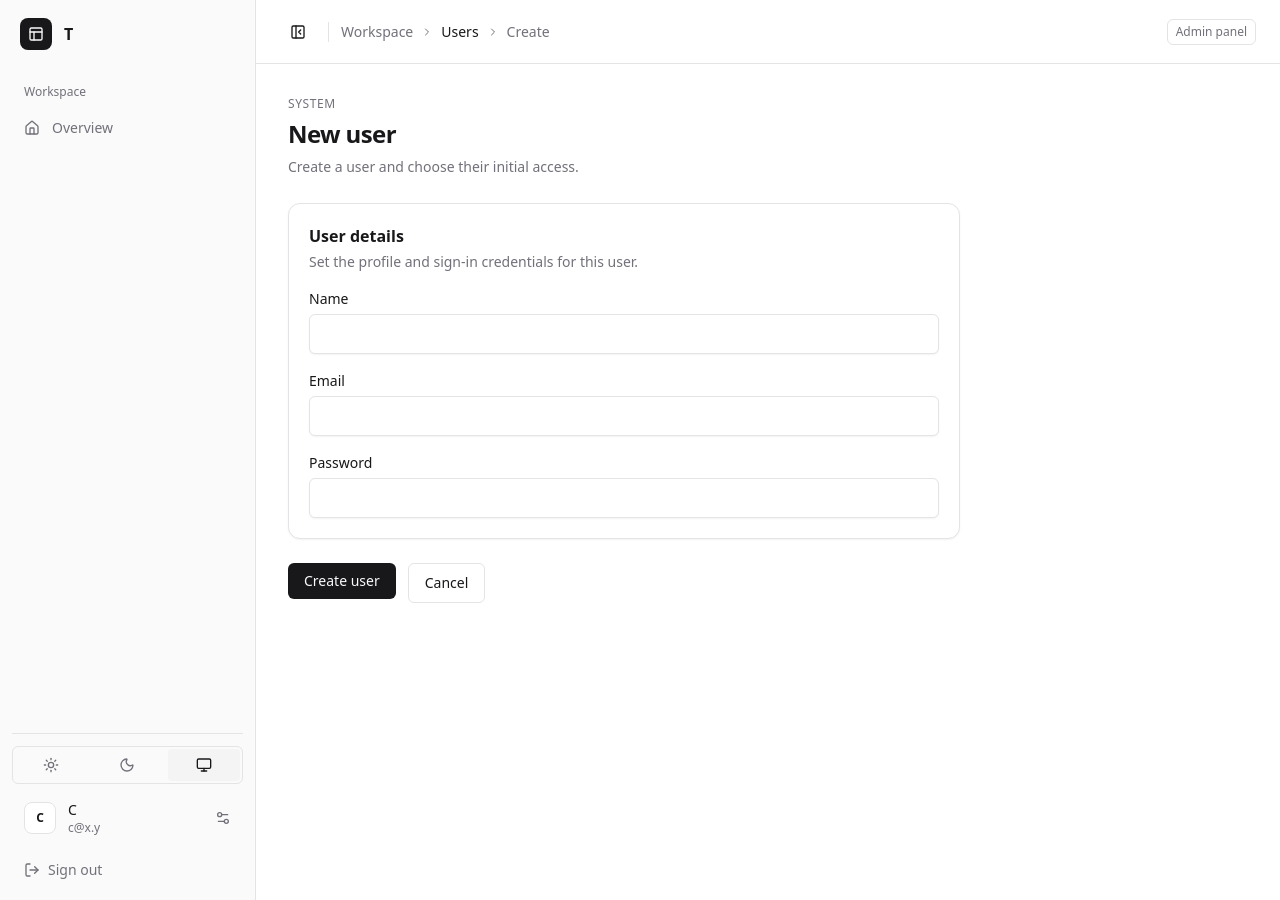
Test: connects user validation errors to their matching labels
Type "used@x.y" into the field labelled "Email" at (624, 416), box [309,396,939,436]
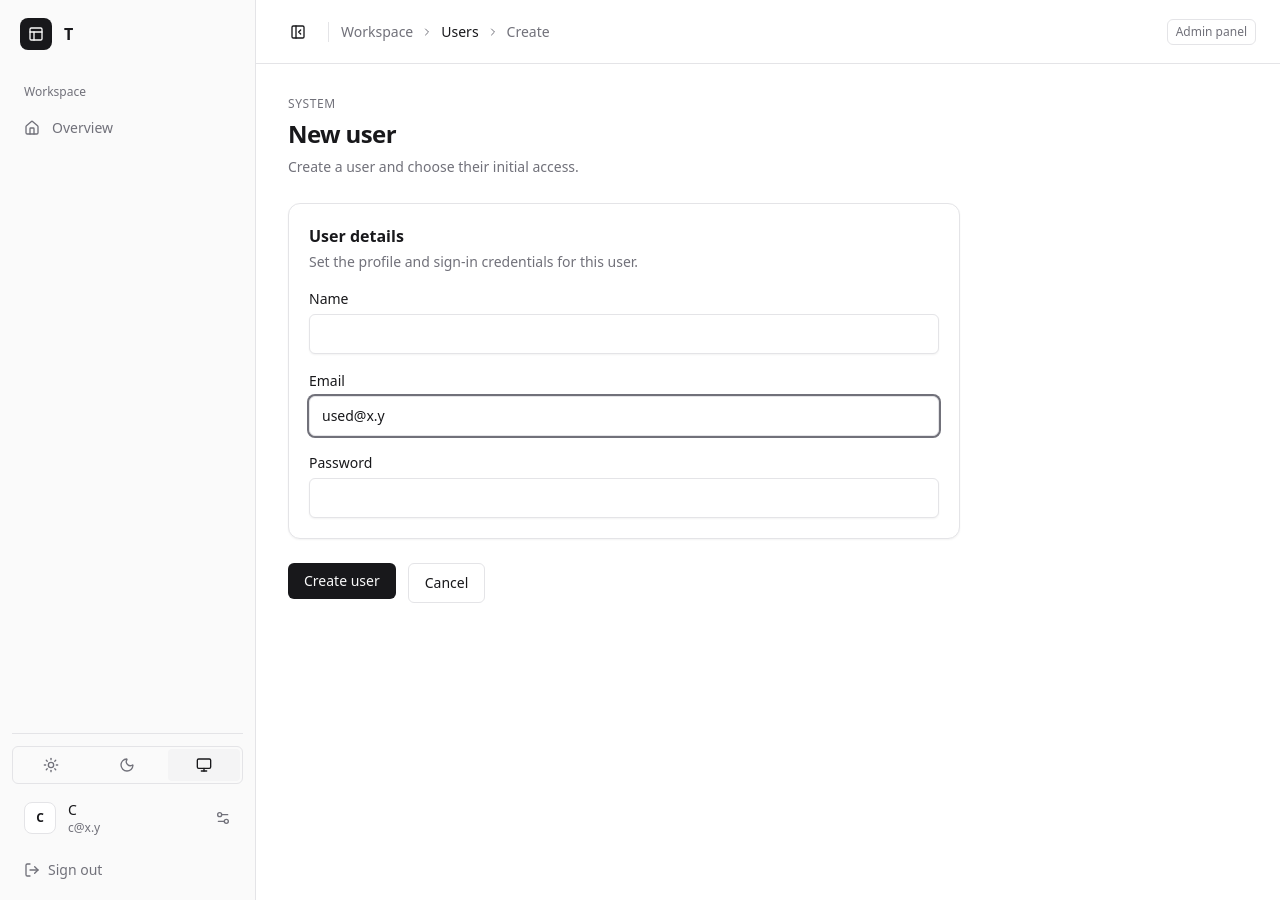
Click the button "Create user" at (342, 581), box [288,563,396,599]
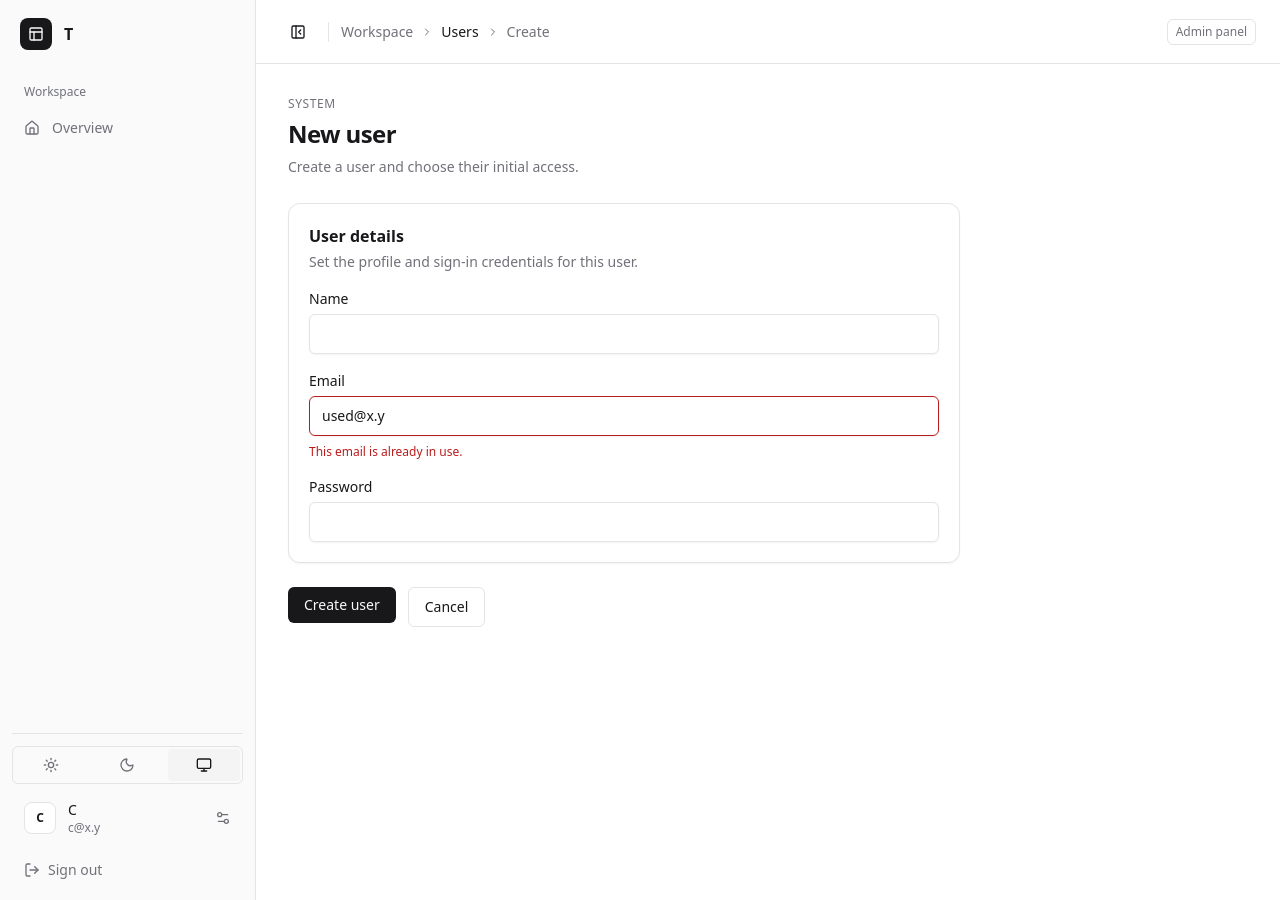
Check: the text "This email is already in use." is shown, box [309,443,462,460]
